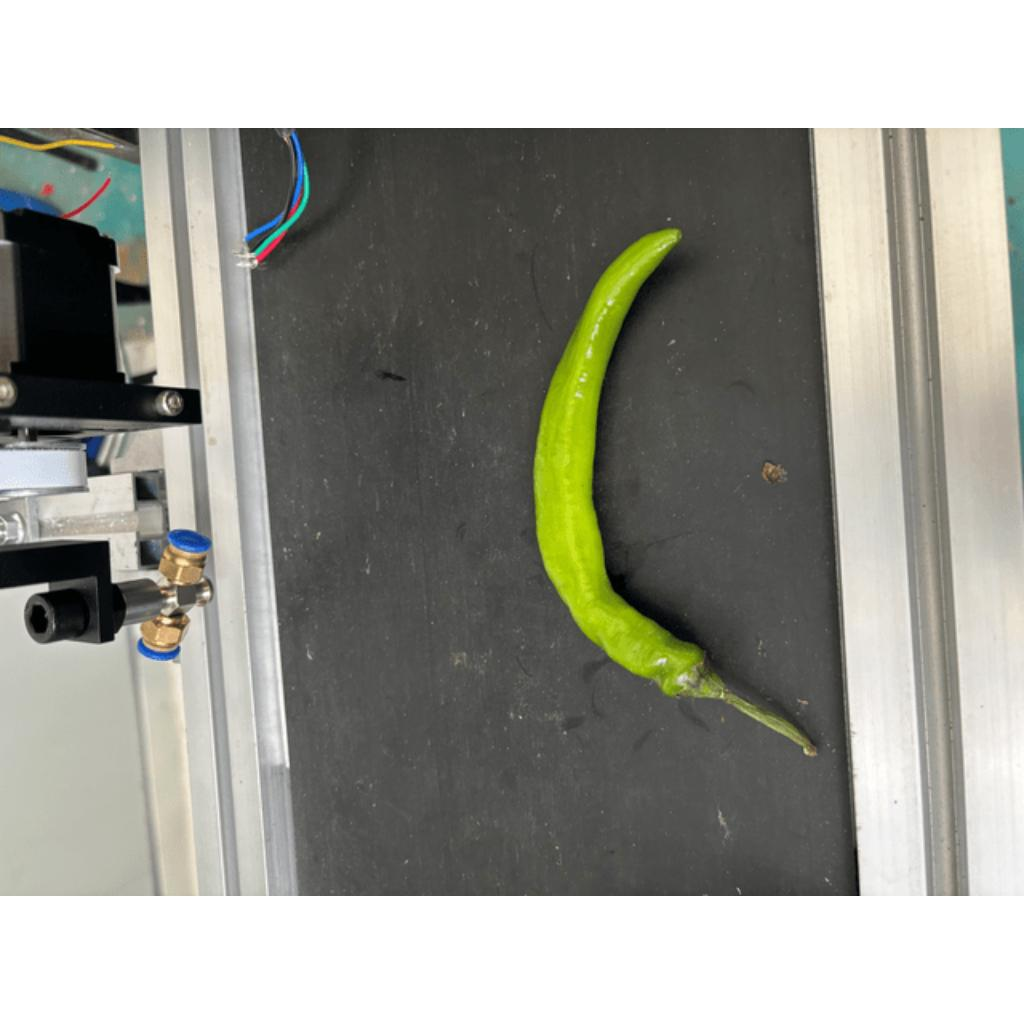chili: (530, 225, 725, 701)
